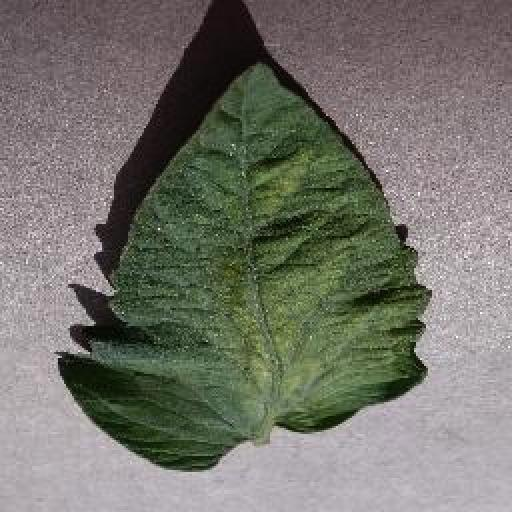disease_tomato: (58, 62, 432, 474)
